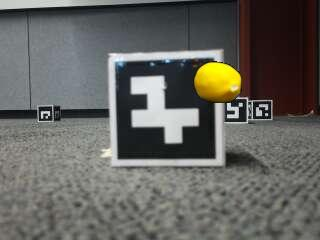lemon: (195, 62, 242, 103)
